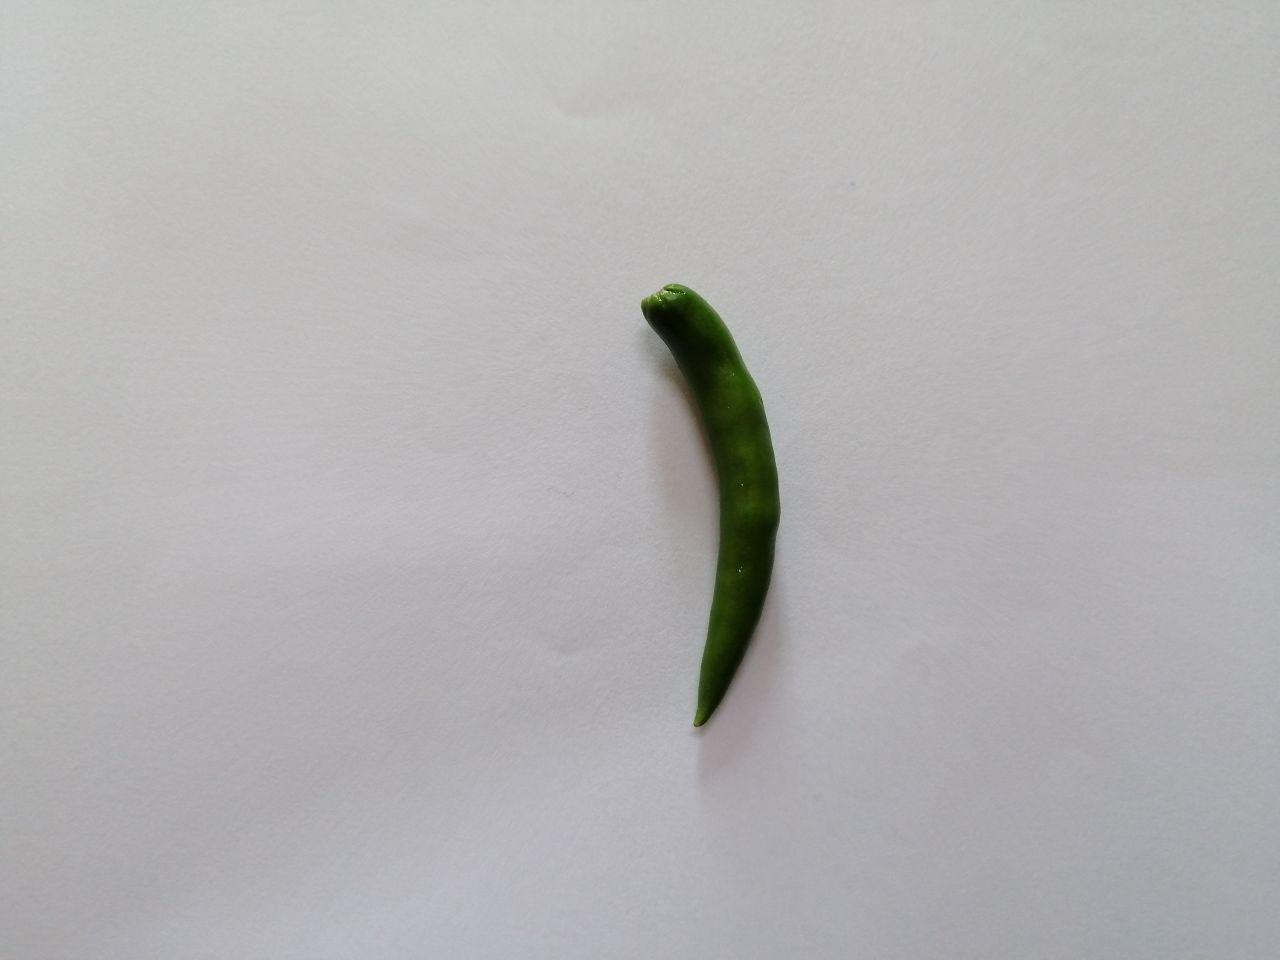lada hijau: (610, 267, 794, 755)
